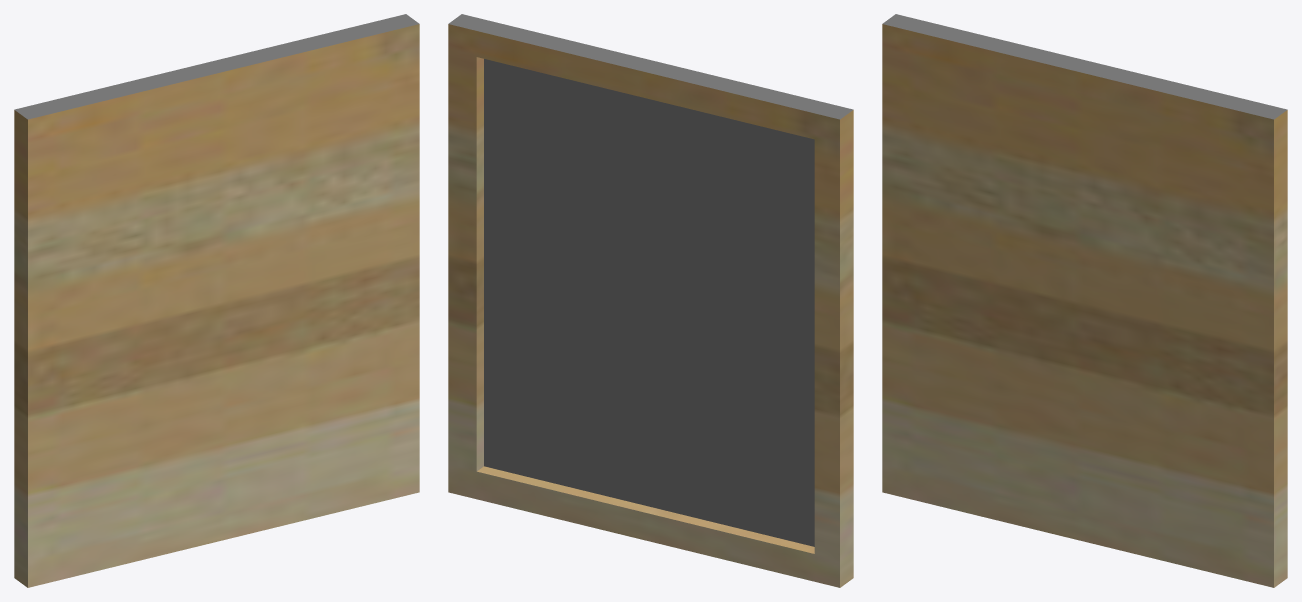
The model's file is frame.gltf.
The picture shows the model from 3 angles, left to right: view 1: azimuth 30°, elevation 25°; view 2: azimuth 150°, elevation 25°; view 3: azimuth 330°, elevation 25°; orthographic projection.
Parts seen in each view (by area): view 1: frame; view 2: frame; view 3: frame.
Part boxes in pixels (bbox=[...]): frame: bbox=[14, 14, 419, 587]; frame: bbox=[448, 14, 853, 587]; frame: bbox=[882, 14, 1287, 587].
Size of the model in its own units: 0.4477 by 0.5112 by 0.027.
2 materials, 1 textured.
